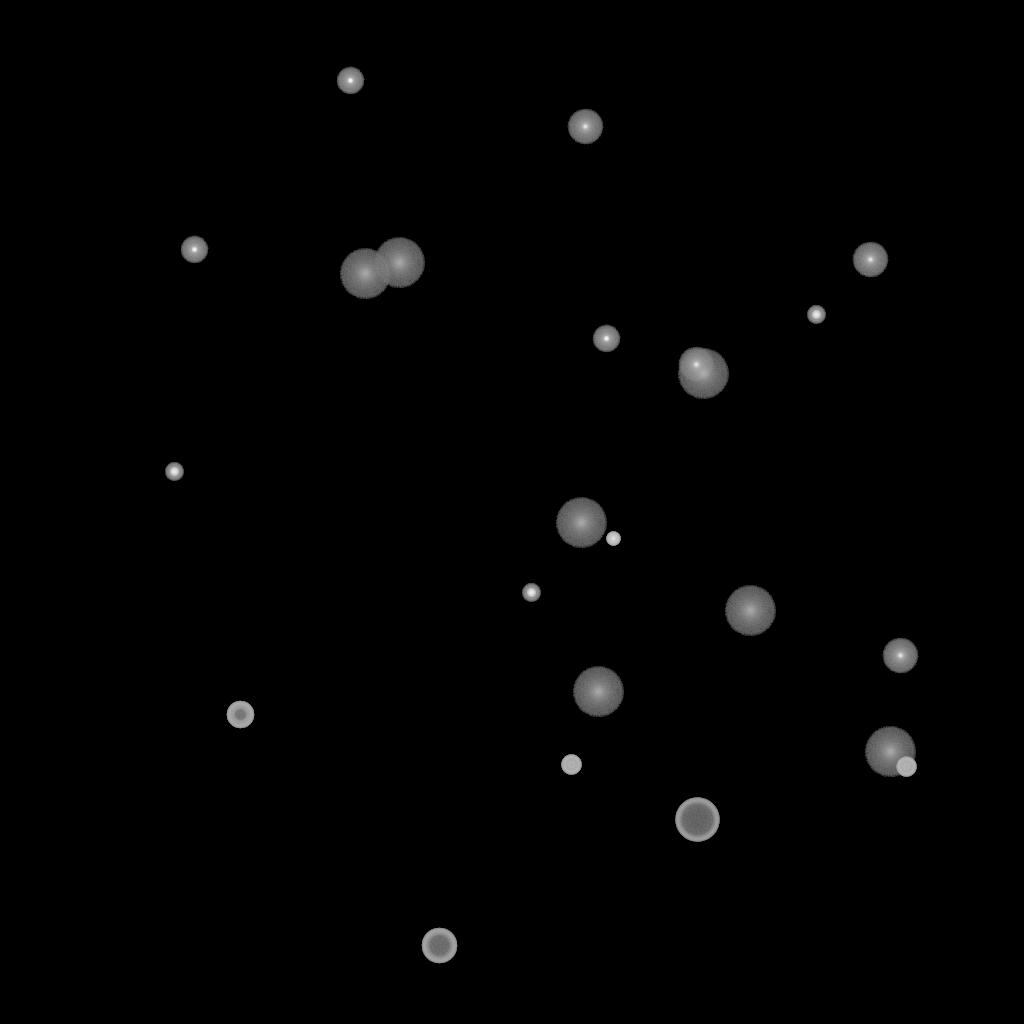depth:-10: (592, 325, 620, 353), (180, 236, 208, 264), (336, 67, 364, 95)
depth:-20: (807, 306, 825, 324), (165, 463, 183, 481), (522, 584, 540, 602)
depth:-30: (606, 532, 620, 546)
depth:-40: (896, 757, 916, 777), (561, 755, 581, 775)
depth:-50: (226, 701, 254, 729)
depth:-60: (421, 928, 457, 964)
depth:-70: (675, 798, 719, 842)
depth:0: (852, 242, 888, 278), (567, 109, 603, 145), (882, 638, 918, 674), (678, 347, 714, 383)
depth:20: (864, 727, 916, 777), (339, 249, 391, 299), (555, 498, 607, 548), (373, 238, 425, 288), (724, 586, 776, 636), (572, 667, 624, 717), (677, 349, 729, 399)
